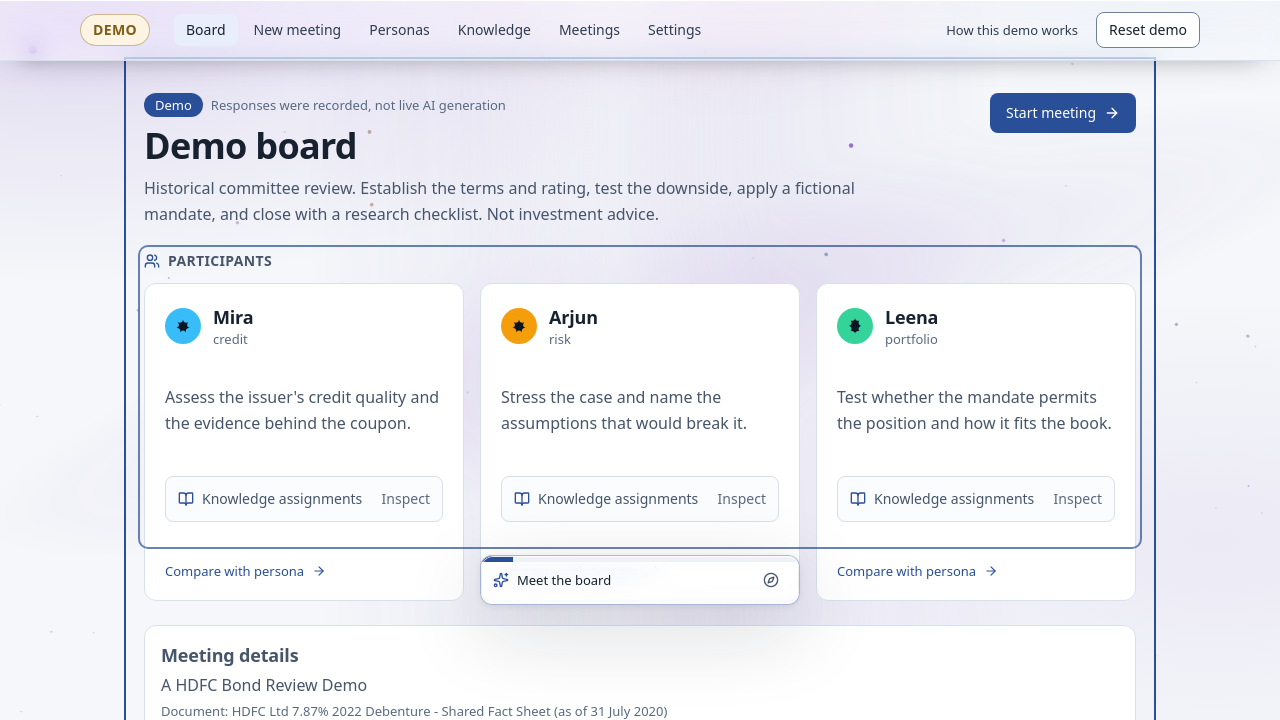
Test: demo persona catalog › opens practice templates from the prepared board and lists the seeded catalog
Expected: the heading "Demo board" is shown, [144,121,357,170]
Step 1. Click the link "Personas" → click(399, 30), box [369,20,430,39]
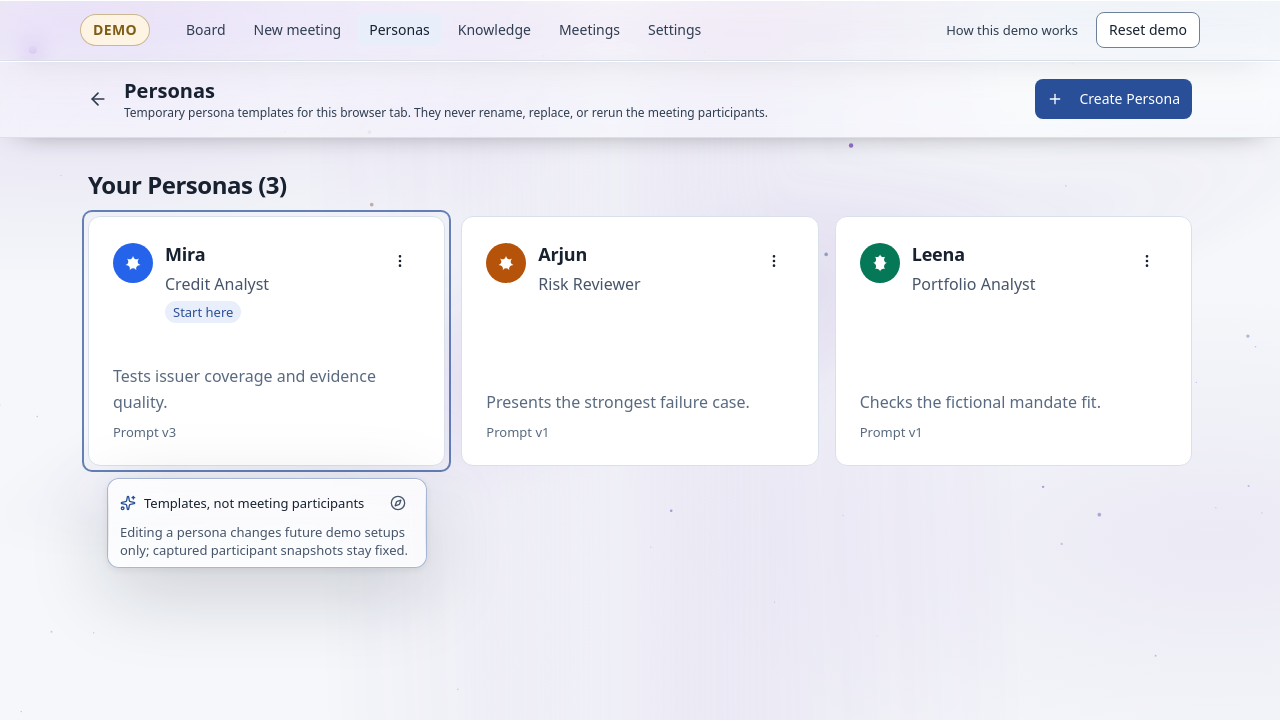
Now the heading "Personas" is shown, box [124,77,215,104]
Now the text "Start here" is shown, box [165,301,241,323]
Now the text "Prompt v3" is shown, box [113,423,176,441]
